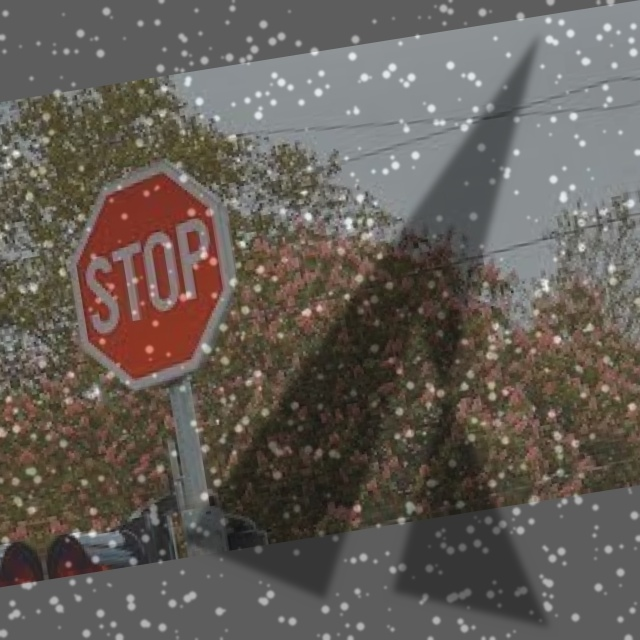Stop: (60, 157, 248, 393)
